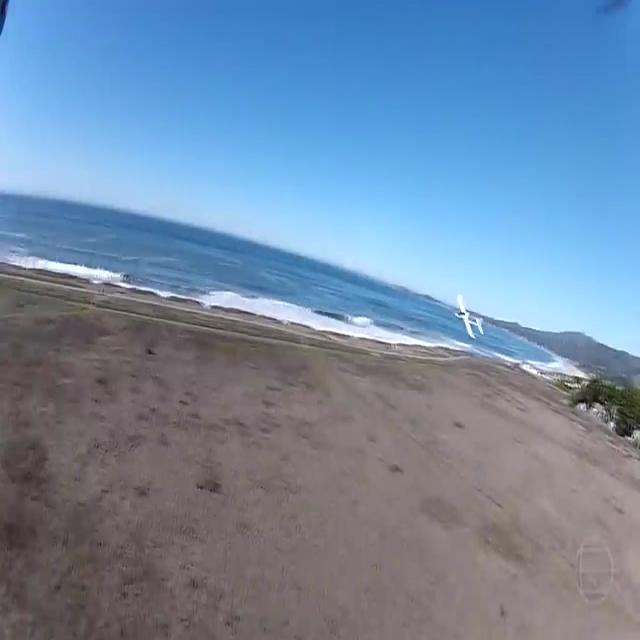iha: (453, 294, 484, 340)
